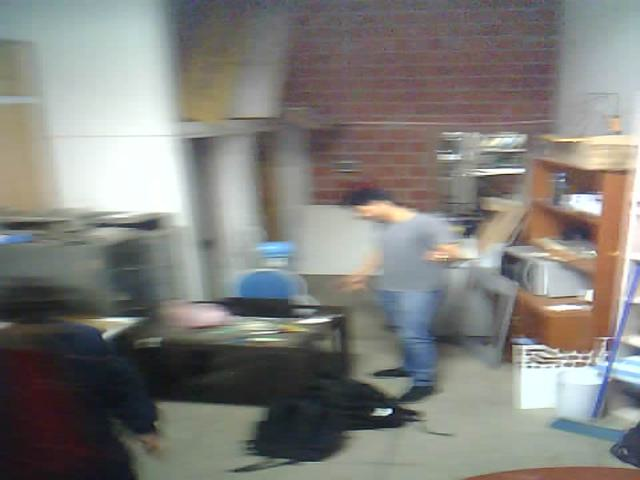person: (320, 161, 478, 413), (0, 266, 184, 480)
